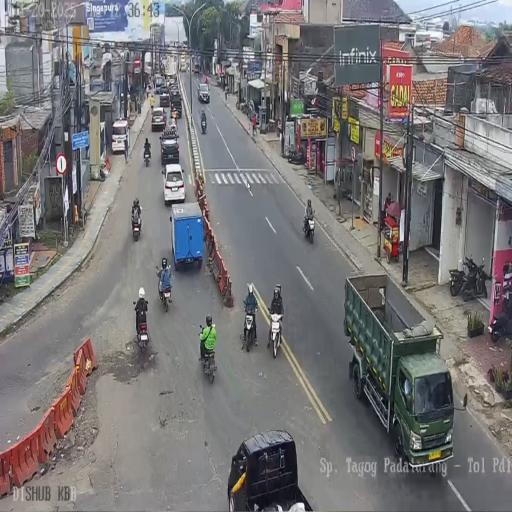3: (342, 269, 453, 466), (170, 202, 203, 271), (167, 56, 177, 78), (160, 56, 169, 78), (144, 52, 152, 76), (180, 57, 187, 72), (194, 61, 200, 75)
car: (227, 431, 312, 510), (162, 164, 187, 206), (159, 130, 180, 164), (112, 117, 130, 154), (151, 106, 166, 132), (169, 89, 182, 119), (197, 82, 210, 103), (158, 86, 170, 106), (168, 76, 178, 94)
truck: (449, 252, 488, 300), (489, 296, 511, 342), (198, 330, 216, 383), (241, 304, 259, 354), (134, 305, 150, 353), (267, 311, 283, 358), (158, 271, 172, 312), (302, 207, 316, 244), (131, 206, 142, 241), (286, 146, 306, 165), (167, 116, 178, 136), (143, 145, 151, 167), (241, 100, 250, 117), (200, 115, 207, 134), (276, 119, 281, 138), (252, 120, 257, 136), (224, 87, 228, 100)
